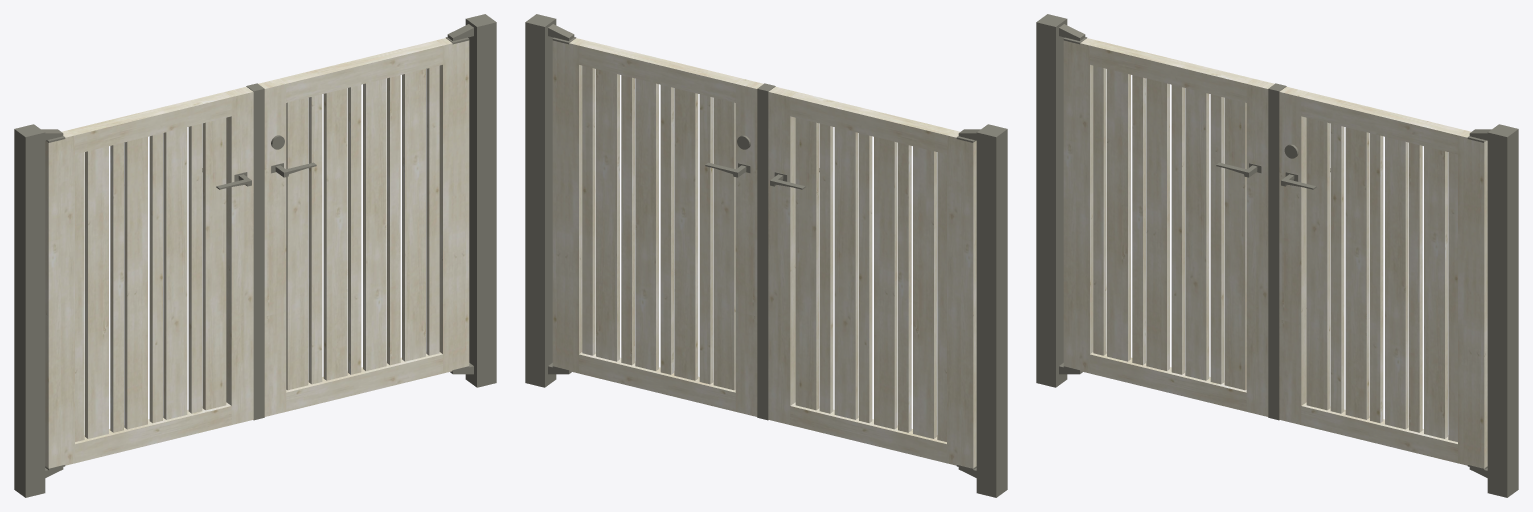
File: awmonpi2-40-80tate_h1200-w800-800_whitepine.fbx
3 views of the same model, side by side, from view 1: azimuth 30°, elevation 25°; view 2: azimuth 150°, elevation 25°; view 3: azimuth 330°, elevation 25° (orthographic).
Visible parts, largest first — view 1: awmonpi2-40-80tate_h1200-w800-800_chacoalgray.007; view 2: awmonpi2-40-80tate_h1200-w800-800_chacoalgray.007; view 3: awmonpi2-40-80tate_h1200-w800-800_chacoalgray.007.
Part boxes in pixels (bbox=[...]): awmonpi2-40-80tate_h1200-w800-800_chacoalgray.007: bbox=[14, 14, 496, 497]; awmonpi2-40-80tate_h1200-w800-800_chacoalgray.007: bbox=[525, 14, 1007, 497]; awmonpi2-40-80tate_h1200-w800-800_chacoalgray.007: bbox=[1036, 14, 1518, 497].
Bounding box in the file's own units: 180 × 132 × 16.7.
2 materials, 2 textured.
